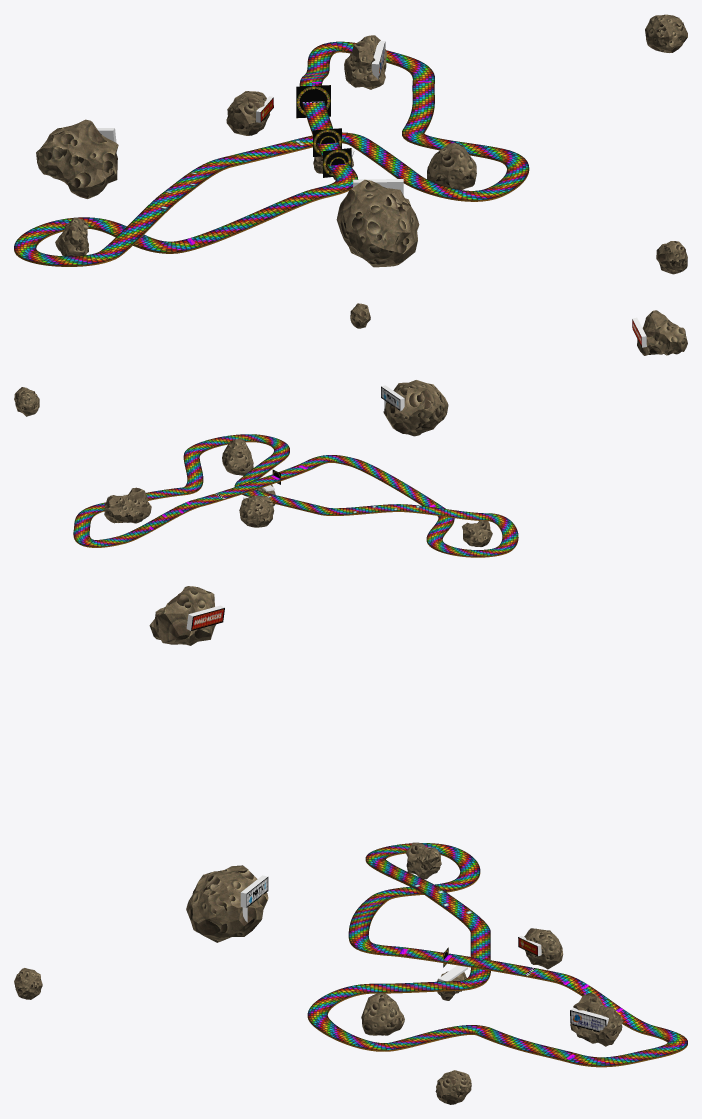
3 views of the same model, one above another, from view 1: azimuth 30°, elevation 25°; view 2: azimuth 150°, elevation 25°; view 3: azimuth 270°, elevation 25° (orthographic). The views are drawn at different scales.
Parts seen in each view (by area): view 1: Plane.153, Plane.150, Plane.149, Plane.151, Plane.155; view 2: Plane.150, Plane.153, Plane.149; view 3: Plane.150, Plane.153, Plane.149, Plane.156, Plane.155.
Part boxes in pixels (x1,y1,x2,y2): Plane.153: (36, 14, 687, 274); Plane.150: (14, 41, 529, 265); Plane.149: (14, 51, 529, 266); Plane.151: (296, 85, 351, 177); Plane.155: (96, 41, 403, 194); Plane.150: (73, 434, 518, 556); Plane.153: (14, 303, 687, 546); Plane.149: (73, 441, 518, 557); Plane.150: (307, 843, 687, 1065); Plane.153: (14, 586, 623, 1104); Plane.149: (307, 852, 687, 1067); Plane.156: (191, 608, 606, 1032); Plane.155: (186, 605, 608, 1025).
Size of the model in its own units: 112026 by 35497 by 91545.
10 materials, 8 textured.
